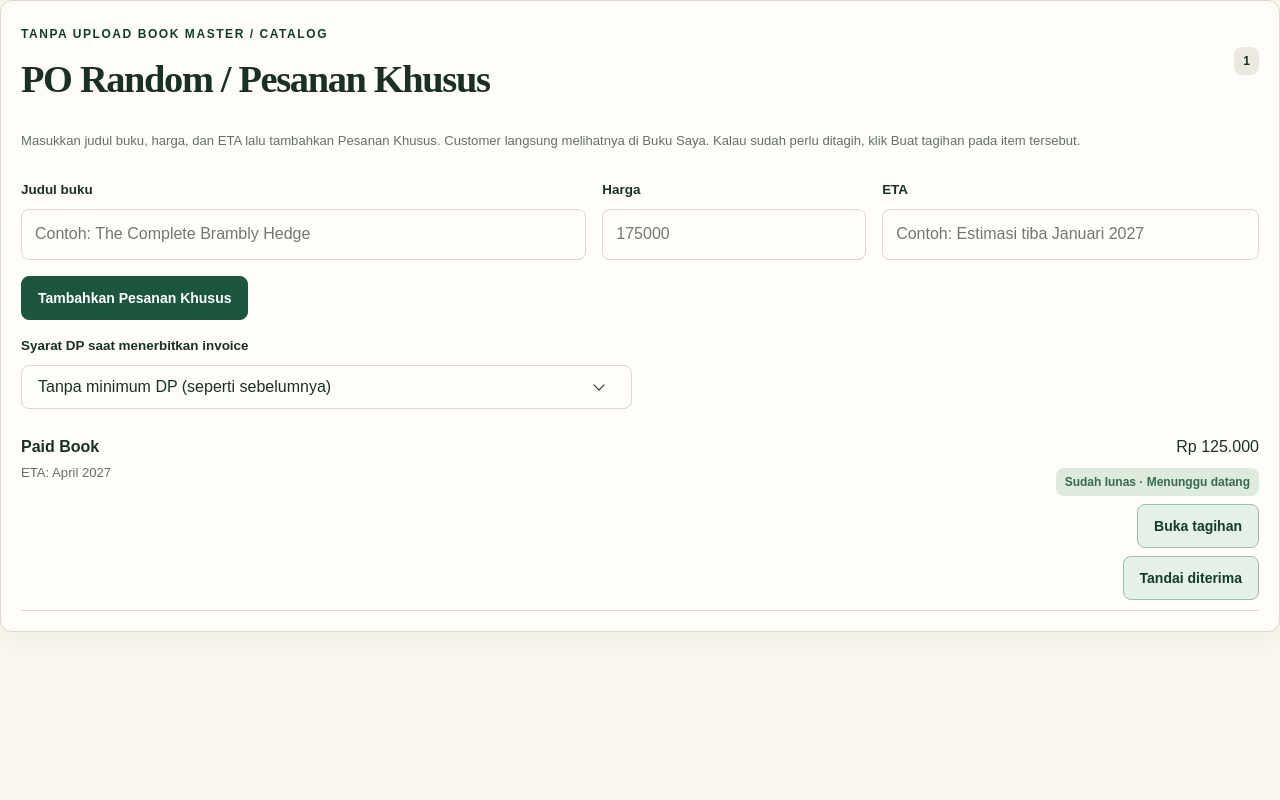
Test: Admin Manual PO flow › lets Admin mark a paid Random PO as received from customer detail
The image size is (1280, 800).
Expected: the text "Sudah lunas · Menunggu datang" is shown, [1056, 468, 1259, 496]
What coordinates should you click on to do the following:
click the button "Tandai diterima"
I would click on:
 (1191, 578)
Its box is [1123, 556, 1259, 600].
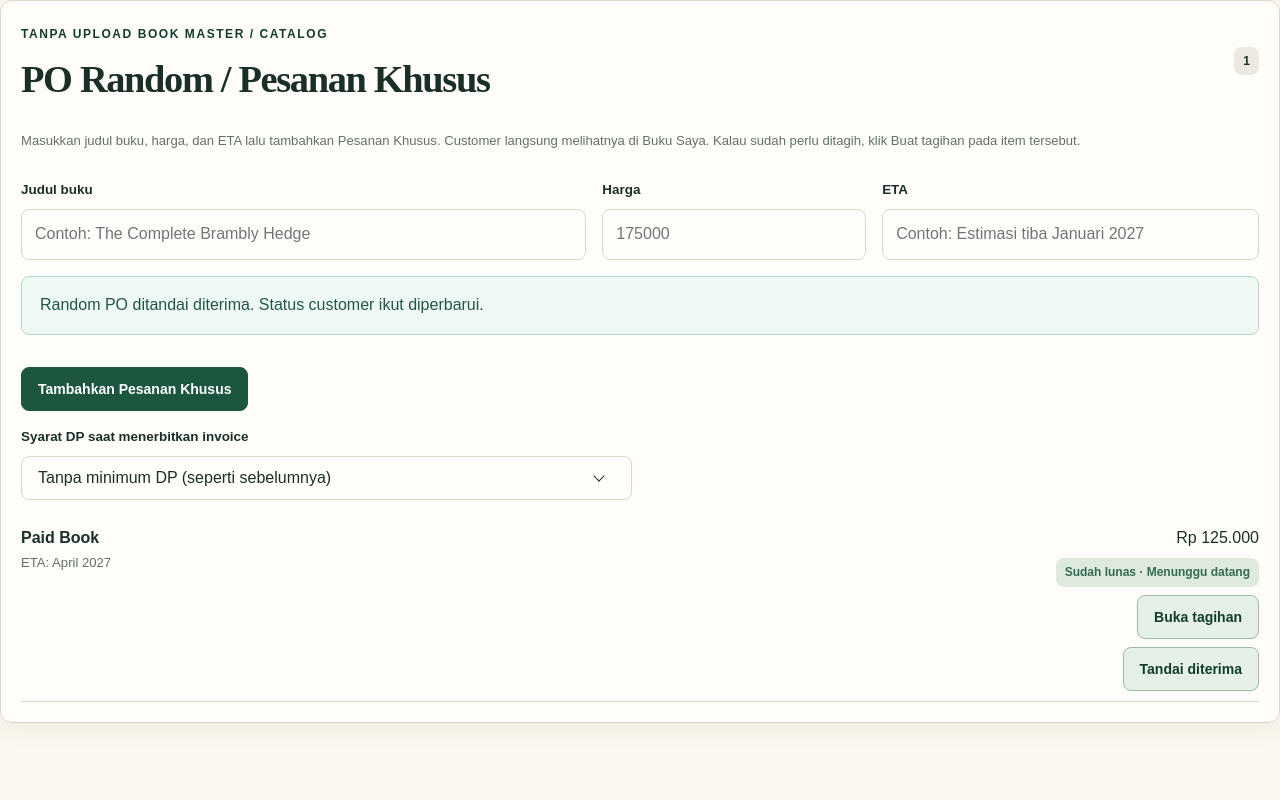
Result: the text "Random PO ditandai diterima. Status customer ikut diperbarui." is shown at [21, 276, 1259, 335]
